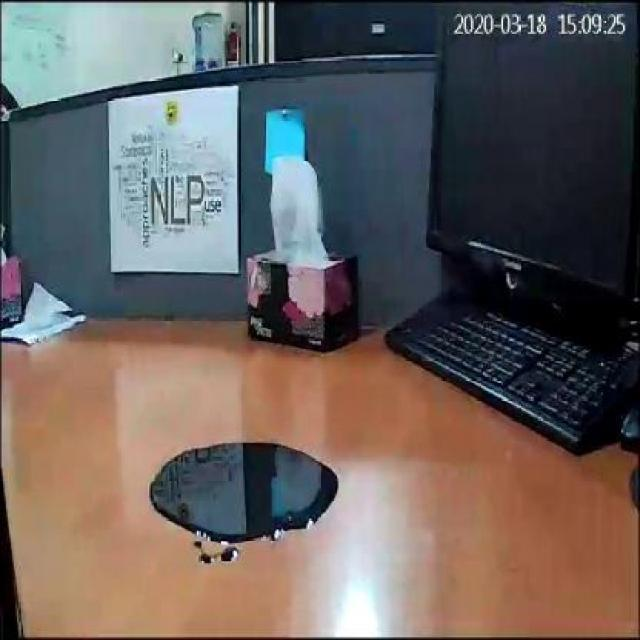spill: (150, 438, 342, 562)
